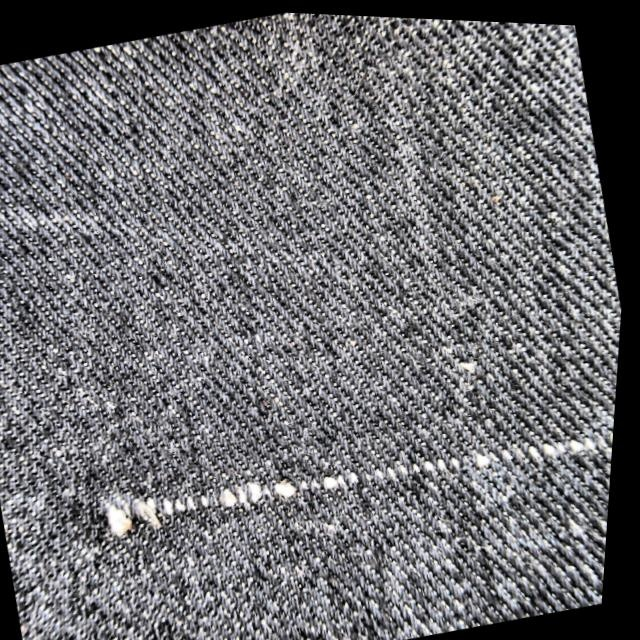Hole: (423, 375, 620, 519), (53, 439, 229, 590)
